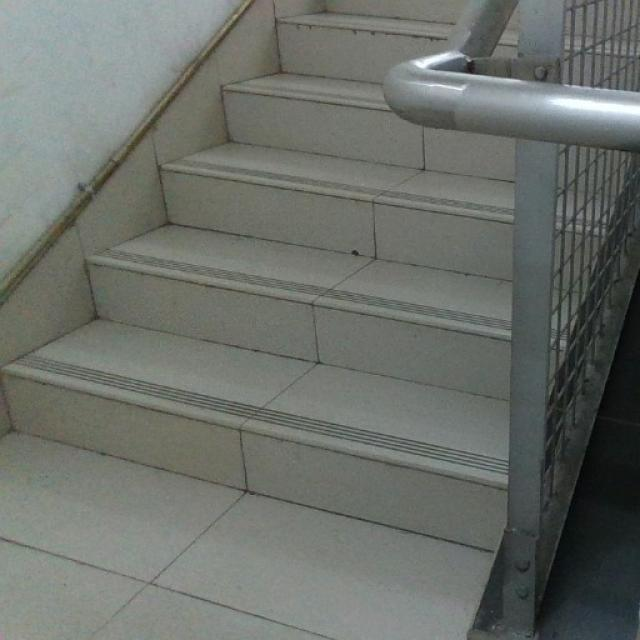stair: (32, 150, 510, 488)
